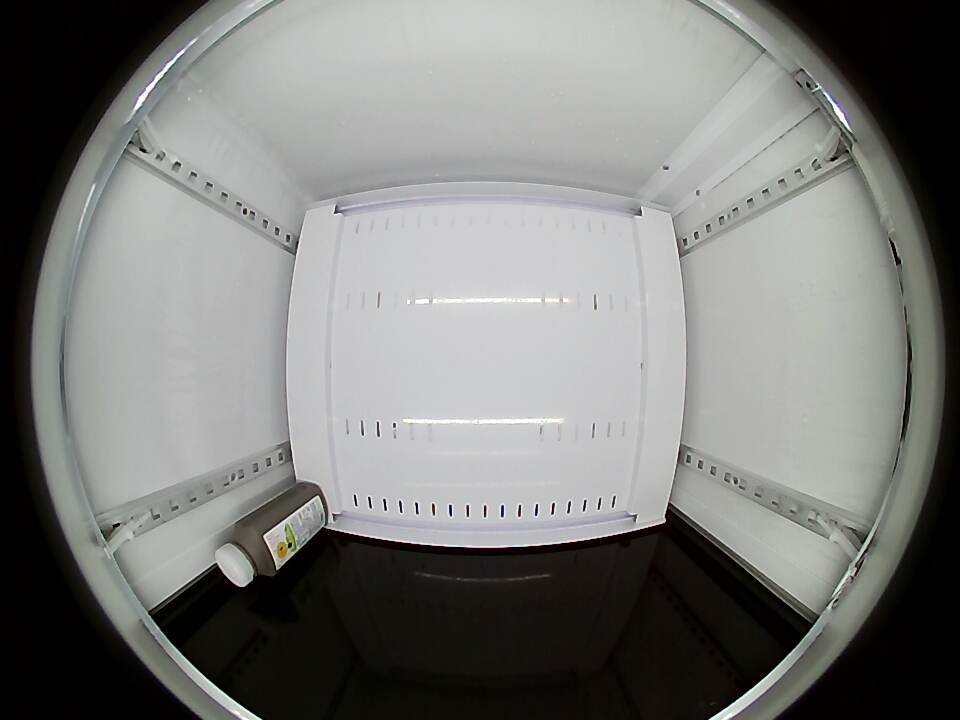youyanggudong: (214, 520, 282, 588)
